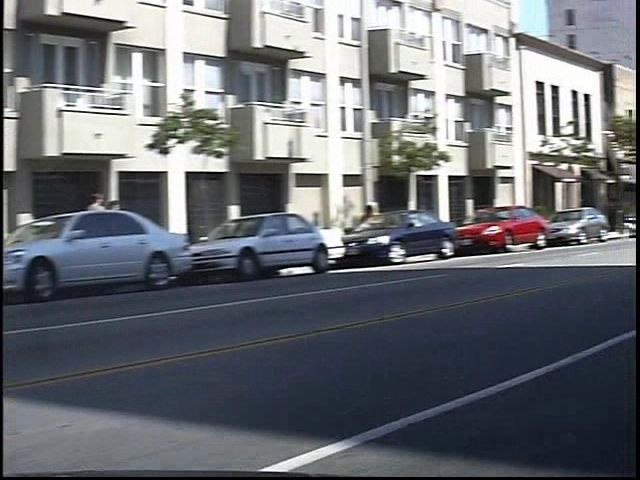person: (101, 184, 125, 264), (121, 196, 142, 260)
